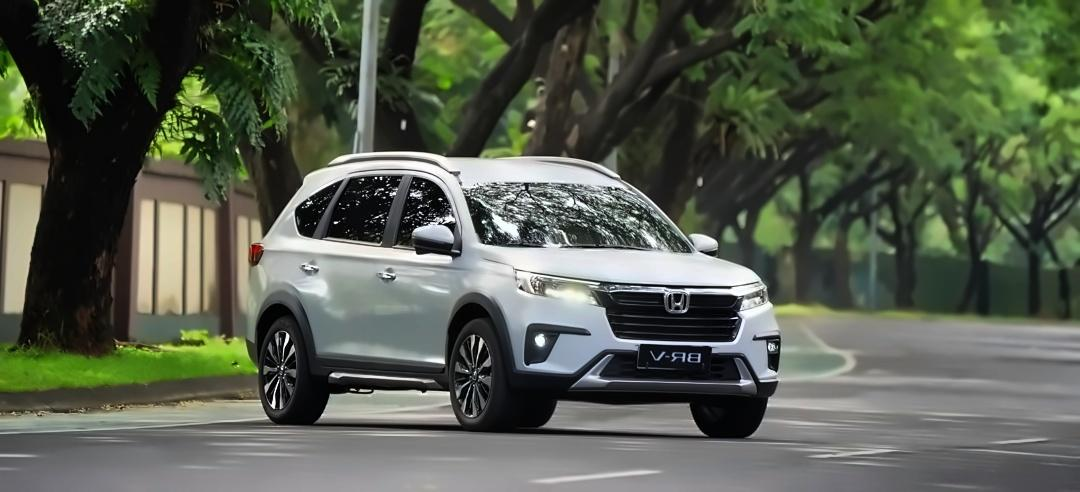Car hood: (478, 242, 764, 291)
Driver-s door - -F-R-: (378, 165, 452, 373)
Fender - -F-R-: (450, 227, 519, 340)
Fender - -R-R-: (253, 233, 299, 314)
Front bumper: (494, 295, 785, 405)
Headlight - -L-: (723, 277, 774, 314)
Headlight - -R-: (512, 263, 609, 311)
Passenger-s door - -R-R-: (298, 164, 395, 373)
Rear bumper: (234, 273, 266, 368)
Rear light - -R-: (239, 232, 271, 272)
Side bumper - -R-: (302, 349, 453, 395)
Side mirror - -L-: (685, 227, 723, 262)
Side mirror - -R-: (409, 215, 460, 266)
